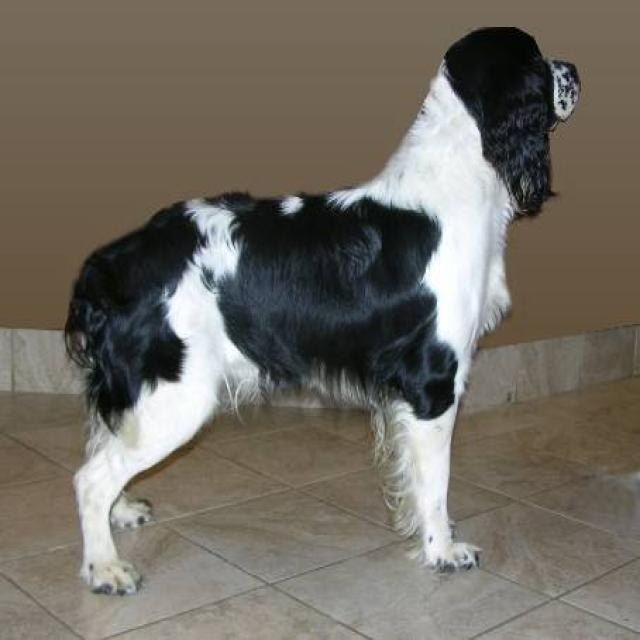dog: (62, 24, 581, 595)
